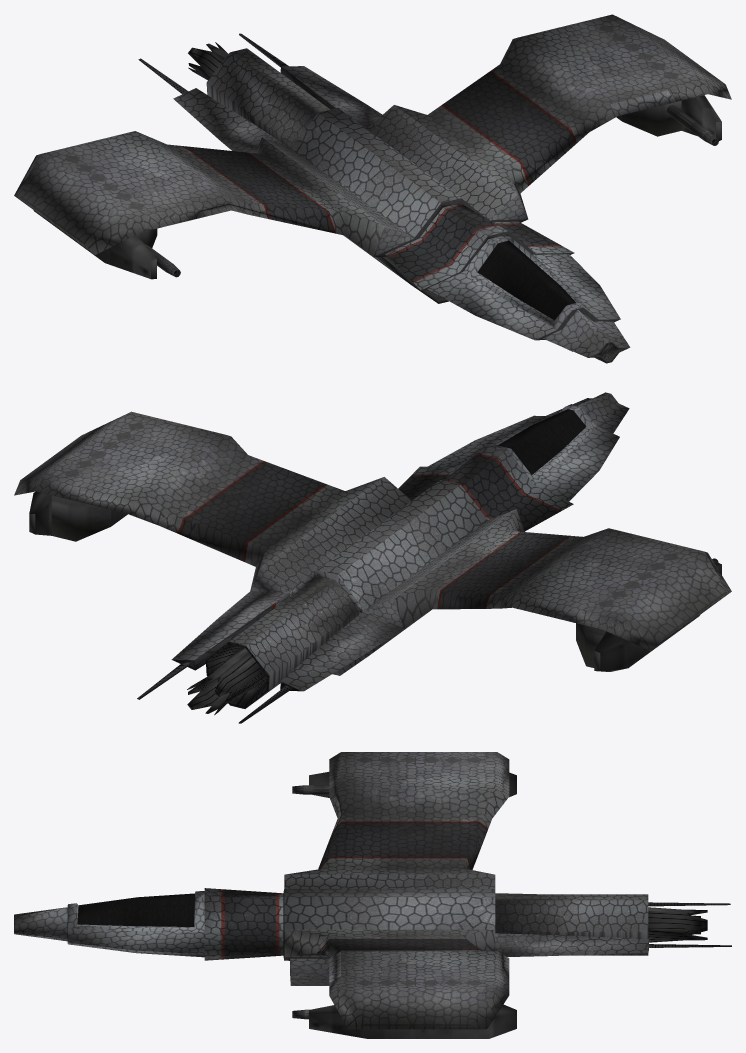
Rendered from Saber.fbx.
3 views of the same model, one above another, from view 1: azimuth 30°, elevation 25°; view 2: azimuth 150°, elevation 25°; view 3: azimuth 270°, elevation 25° (orthographic). The views are drawn at different scales.
Visible parts, largest first — view 1: Saber; view 2: Saber; view 3: Saber.
Part boxes in pixels (x1,y1,x2,y2): Saber: [14, 14, 731, 363]; Saber: [14, 392, 731, 723]; Saber: [14, 752, 731, 1038].
Size of the model in its own units: 455 by 87.16 by 513.
